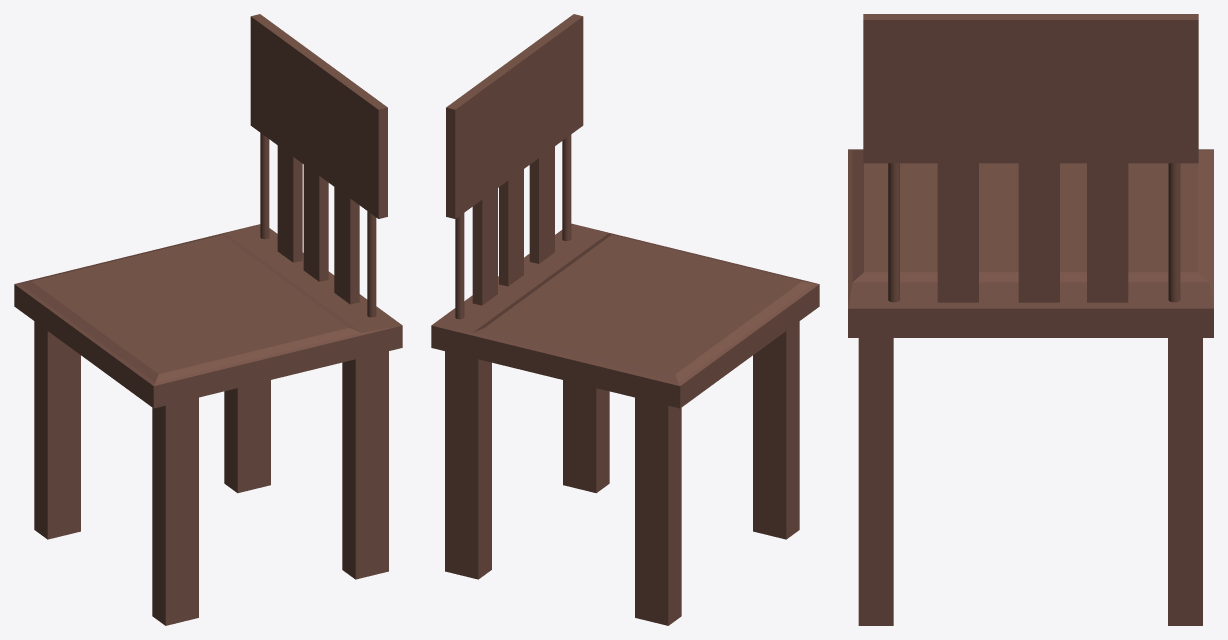
Rendered from Chair.fbx.
3 renders of one model, left to right at view 1: azimuth 30°, elevation 25°; view 2: azimuth 150°, elevation 25°; view 3: azimuth 270°, elevation 25°, orthographic. The views are drawn at different scales.
Visible parts, largest first — view 1: Cylinder.001; view 2: Cylinder.001; view 3: Cylinder.001.
Boxes of the visible parts, x1=… form: Cylinder.001: x1=14, y1=14, x2=402, y2=625; Cylinder.001: x1=431, y1=14, x2=819, y2=625; Cylinder.001: x1=848, y1=14, x2=1213, y2=625.
Size of the model in its own units: 464 by 823 by 450.
